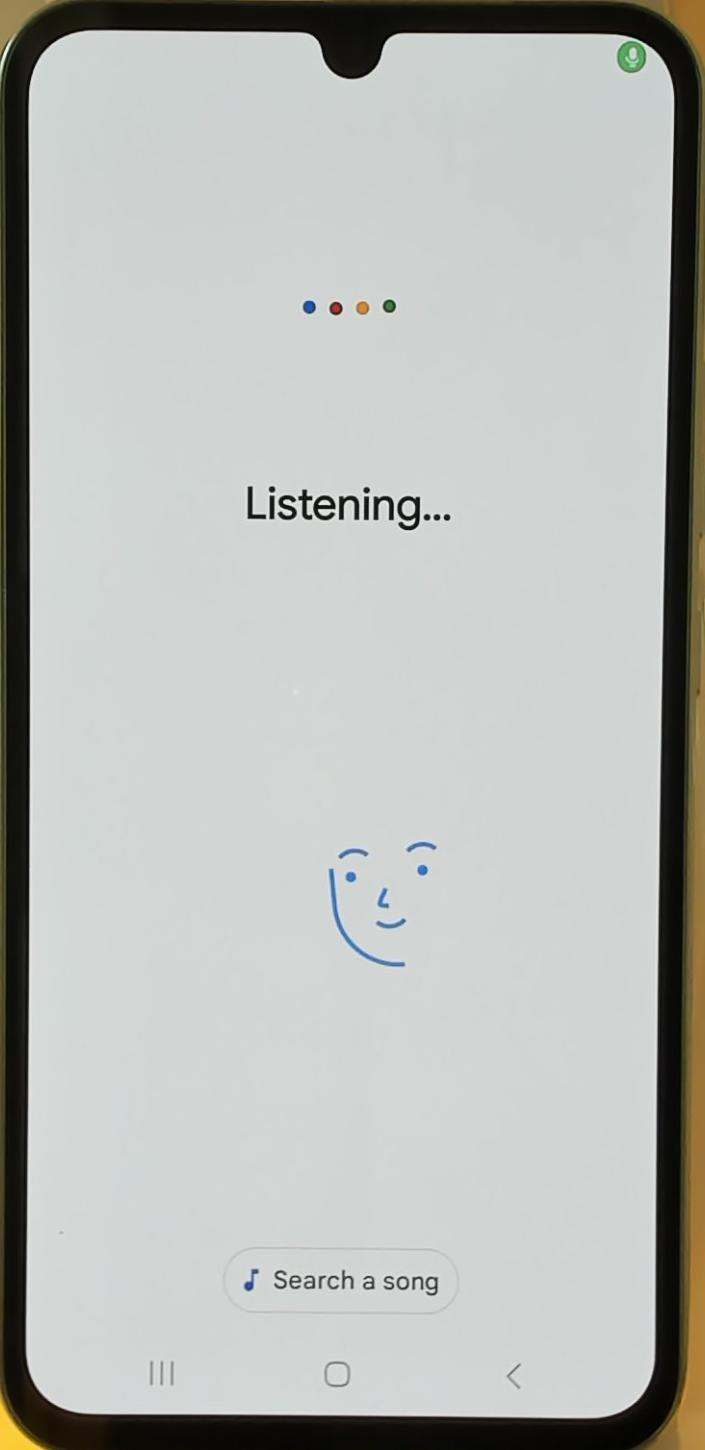CommunBotton: (212, 1238, 466, 1324), (494, 1336, 538, 1402), (140, 1346, 190, 1398), (314, 1350, 356, 1398)
